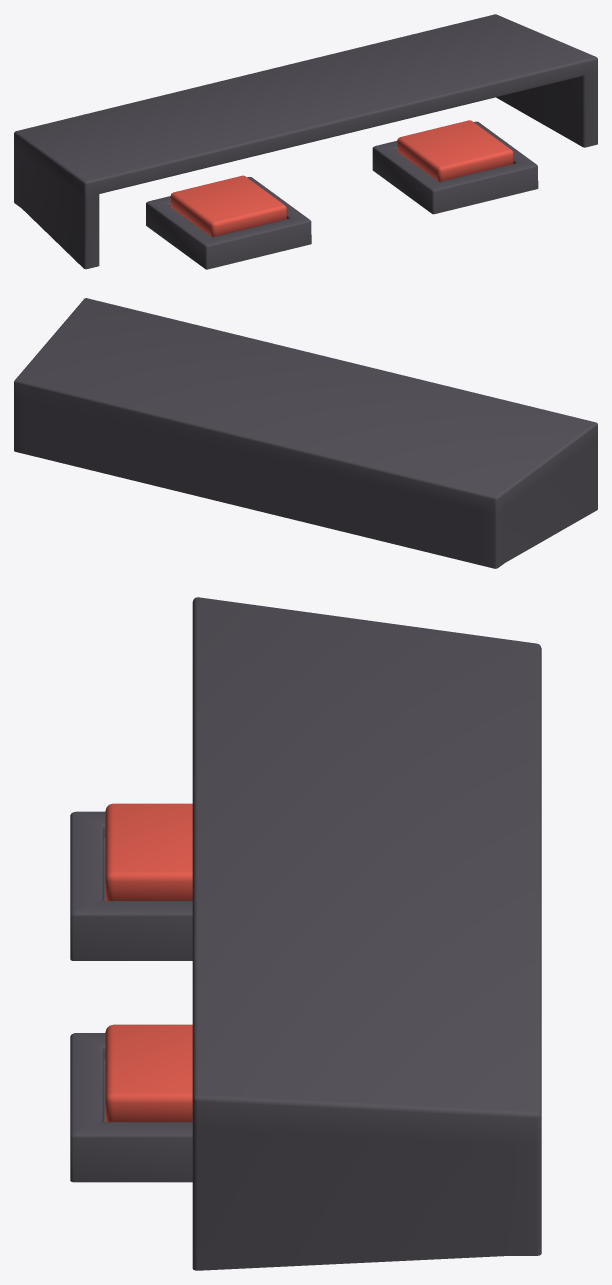
File: WMesh_VoteSet.fbx
The picture shows the model from 3 angles, top to bottom: view 1: azimuth 30°, elevation 25°; view 2: azimuth 150°, elevation 25°; view 3: azimuth 270°, elevation 25°; orthographic projection. The views are drawn at different scales.
Visible parts, largest first — view 1: VoteButtonHider, VoteButton.001, VoteButton.000; view 2: VoteButtonHider; view 3: VoteButtonHider, VoteButton.001, VoteButton.000.
Part boxes in pixels (x1,y1,x2,y2): VoteButtonHider: (14,14,597,269); VoteButton.001: (372,120,538,214); VoteButton.000: (146,175,311,269); VoteButtonHider: (14,298,597,568); VoteButtonHider: (192,597,541,1270); VoteButton.001: (70,1024,192,1182); VoteButton.000: (70,803,192,960).
Bounding box in the file's own units: 68 × 11 × 27.
